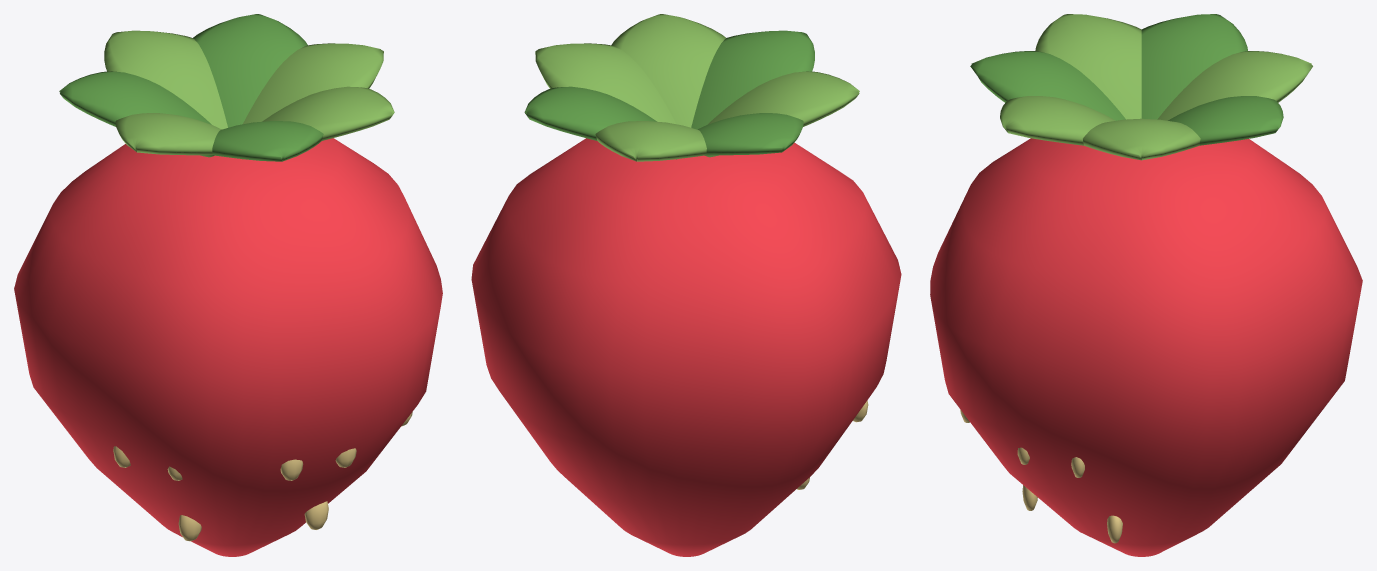
Rendered from strawberry.glb.
The picture shows the model from 3 angles, left to right: view 1: azimuth 30°, elevation 25°; view 2: azimuth 150°, elevation 25°; view 3: azimuth 270°, elevation 25°; orthographic projection.
Visible parts, largest first — view 1: Strawberry | heart-shaped berry.001, Strawberry | green crown.007, Strawberry | green crown.008, Strawberry | green crown.013, Strawberry | green crown.011, Strawberry | green crown.012, Strawberry | green crown.010, Strawberry | green crown.009; view 2: Strawberry | heart-shaped berry.001, Strawberry | green crown.012, Strawberry | green crown.009, Strawberry | green crown.013, Strawberry | green crown.010, Strawberry | green crown.007, Strawberry | green crown.011, Strawberry | green crown.008; view 3: Strawberry | heart-shaped berry.001, Strawberry | green crown.011, Strawberry | green crown.010, Strawberry | green crown.008, Strawberry | green crown.009, Strawberry | green crown.012, Strawberry | green crown.007, Strawberry | green crown.013.
Part boxes in pixels (box(x1,y1,x2,y2)): Strawberry | heart-shaped berry.001: box(14, 138, 442, 556); Strawberry | green crown.007: box(193, 14, 307, 127); Strawberry | green crown.008: box(104, 30, 227, 129); Strawberry | green crown.013: box(243, 43, 383, 124); Strawberry | green crown.011: box(59, 71, 214, 157); Strawberry | green crown.012: box(242, 86, 394, 159); Strawberry | green crown.010: box(115, 113, 221, 155); Strawberry | green crown.009: box(212, 121, 323, 161); Strawberry | heart-shaped berry.001: box(471, 138, 901, 556); Strawberry | green crown.012: box(611, 14, 725, 127); Strawberry | green crown.009: box(691, 30, 814, 129); Strawberry | green crown.013: box(535, 43, 676, 124); Strawberry | green crown.010: box(705, 71, 859, 157); Strawberry | green crown.007: box(524, 86, 676, 159); Strawberry | green crown.011: box(697, 113, 803, 155); Strawberry | green crown.008: box(595, 121, 706, 161); Strawberry | heart-shaped berry.001: box(930, 138, 1362, 556); Strawberry | green crown.011: box(1141, 14, 1247, 119); Strawberry | green crown.010: box(1035, 14, 1141, 119); Strawberry | green crown.008: box(1157, 51, 1312, 120); Strawberry | green crown.009: box(970, 51, 1125, 120); Strawberry | green crown.012: box(1000, 96, 1115, 145); Strawberry | green crown.007: box(1168, 96, 1283, 145); Strawberry | green crown.013: box(1083, 118, 1200, 160).
Bounding box in the file's own units: 0.8629 × 1.04 × 0.8605.
